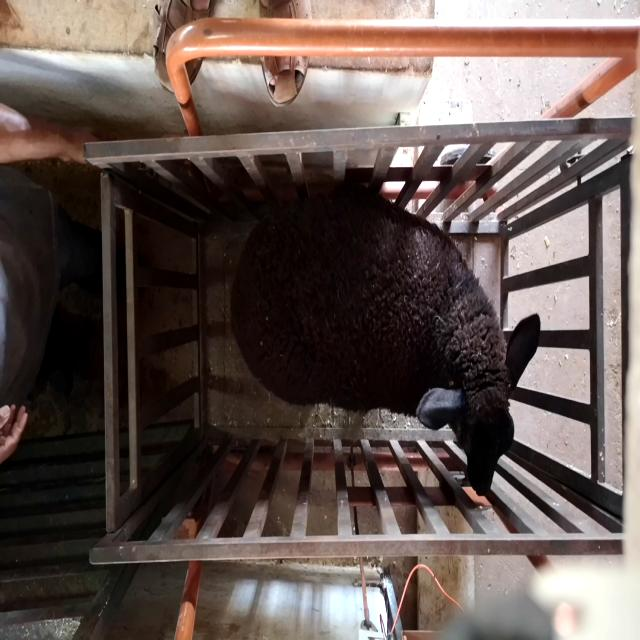sheep: (230, 185, 541, 497)
